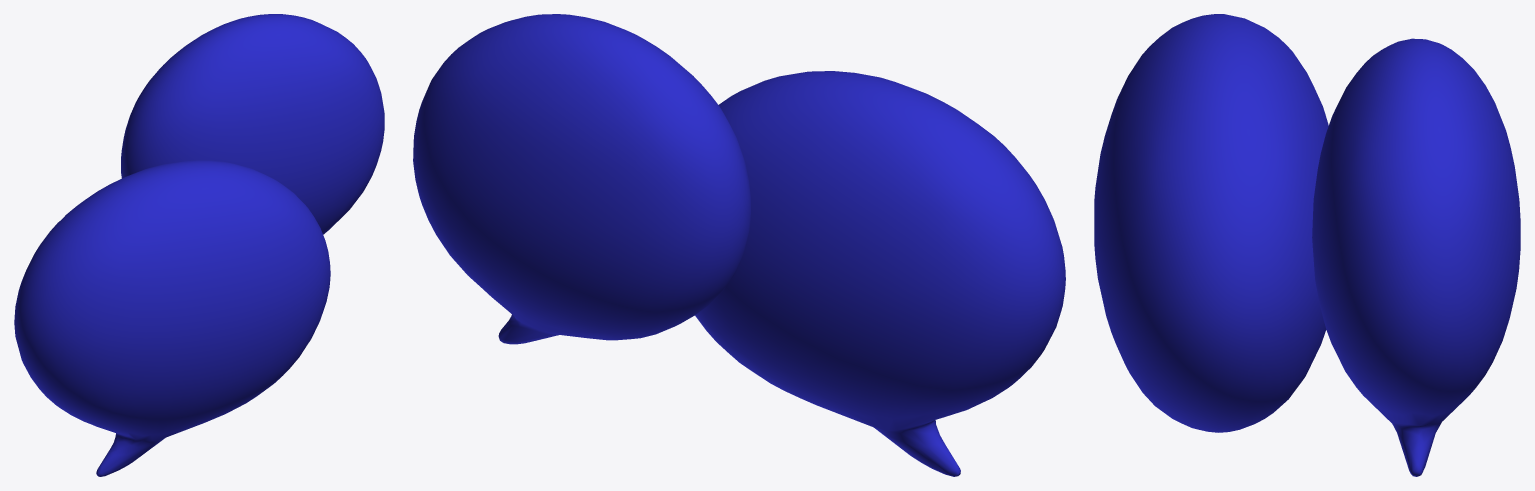
File: chat2.glb
The picture shows the model from 3 angles, left to right: view 1: azimuth 30°, elevation 25°; view 2: azimuth 150°, elevation 25°; view 3: azimuth 270°, elevation 25°; orthographic projection. The views are drawn at different scales.
Parts seen in each view (by area): view 1: Chat-Bubble-2; view 2: Chat-Bubble-2; view 3: Chat-Bubble-2.
Boxes of the visible parts, x1,y1,x2,y2 form: Chat-Bubble-2: [14, 14, 384, 476]; Chat-Bubble-2: [413, 14, 1065, 476]; Chat-Bubble-2: [1094, 14, 1520, 476].
Size of the model in its own units: 1.97 by 1.55 by 1.2.
